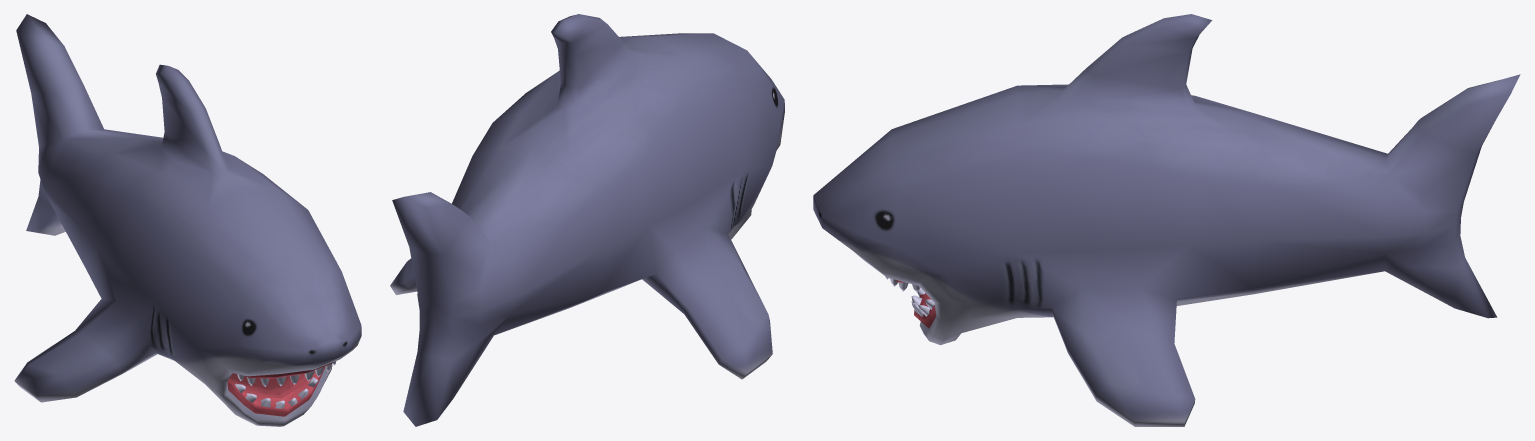
The model's file is shark.fbx.
3 views of the same model, side by side, from view 1: azimuth 30°, elevation 25°; view 2: azimuth 150°, elevation 25°; view 3: azimuth 270°, elevation 25° (orthographic). The views are drawn at different scales.
Visible parts, largest first — view 1: shark; view 2: shark; view 3: shark.
Part boxes in pixels (x1,y1,x2,y2): shark: (14,14,361,426); shark: (390,14,784,426); shark: (813,14,1520,426).
Size of the model in its own units: 125 by 107 by 210.
